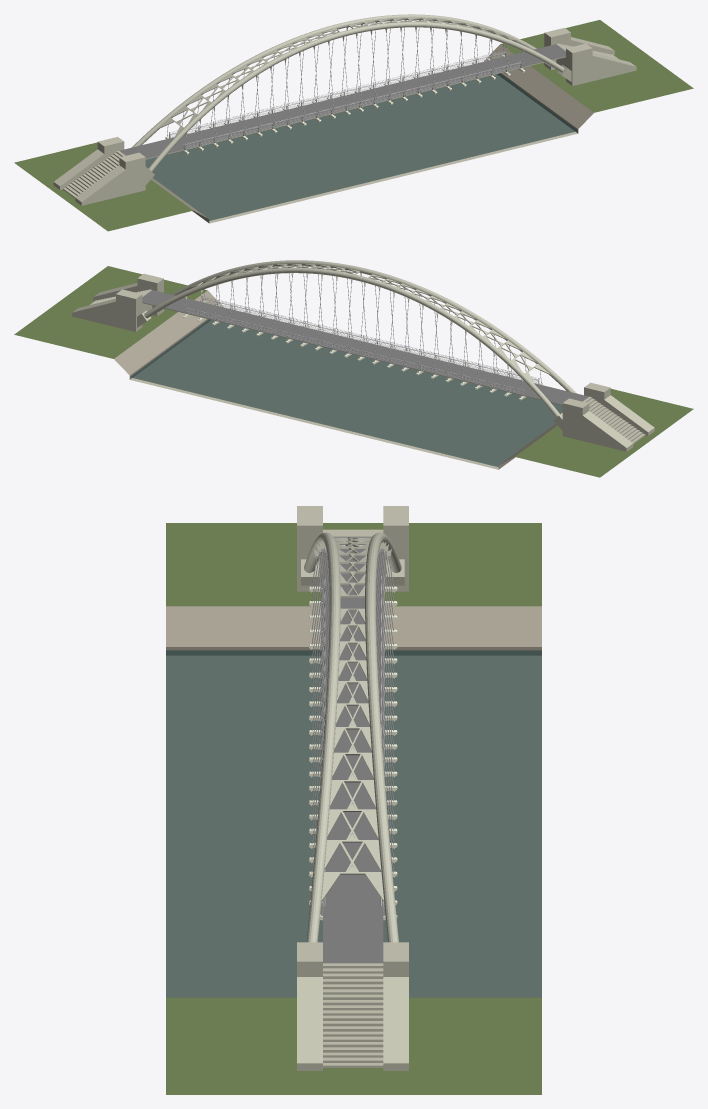
The model's file is suspension_bridge.obj.
The picture shows the model from 3 angles, top to bottom: view 1: azimuth 30°, elevation 25°; view 2: azimuth 150°, elevation 25°; view 3: azimuth 270°, elevation 25°; orthographic projection. The views are drawn at different scales.
Visible parts, largest first — view 1: suspension_bridge_layer2, suspension_bridge_layer1; view 2: suspension_bridge_layer2, suspension_bridge_layer1; view 3: suspension_bridge_layer2, suspension_bridge_layer1.
Part boxes in pixels (<box>): suspension_bridge_layer2: <box>14,20,693,231</box>; suspension_bridge_layer1: <box>53,14,636,205</box>; suspension_bridge_layer2: <box>14,266,693,477</box>; suspension_bridge_layer1: <box>72,260,654,451</box>; suspension_bridge_layer2: <box>166,523,541,1094</box>; suspension_bridge_layer1: <box>297,506,408,1070</box>.
Bounding box in the file's own units: 146 × 28.17 × 40.6.
